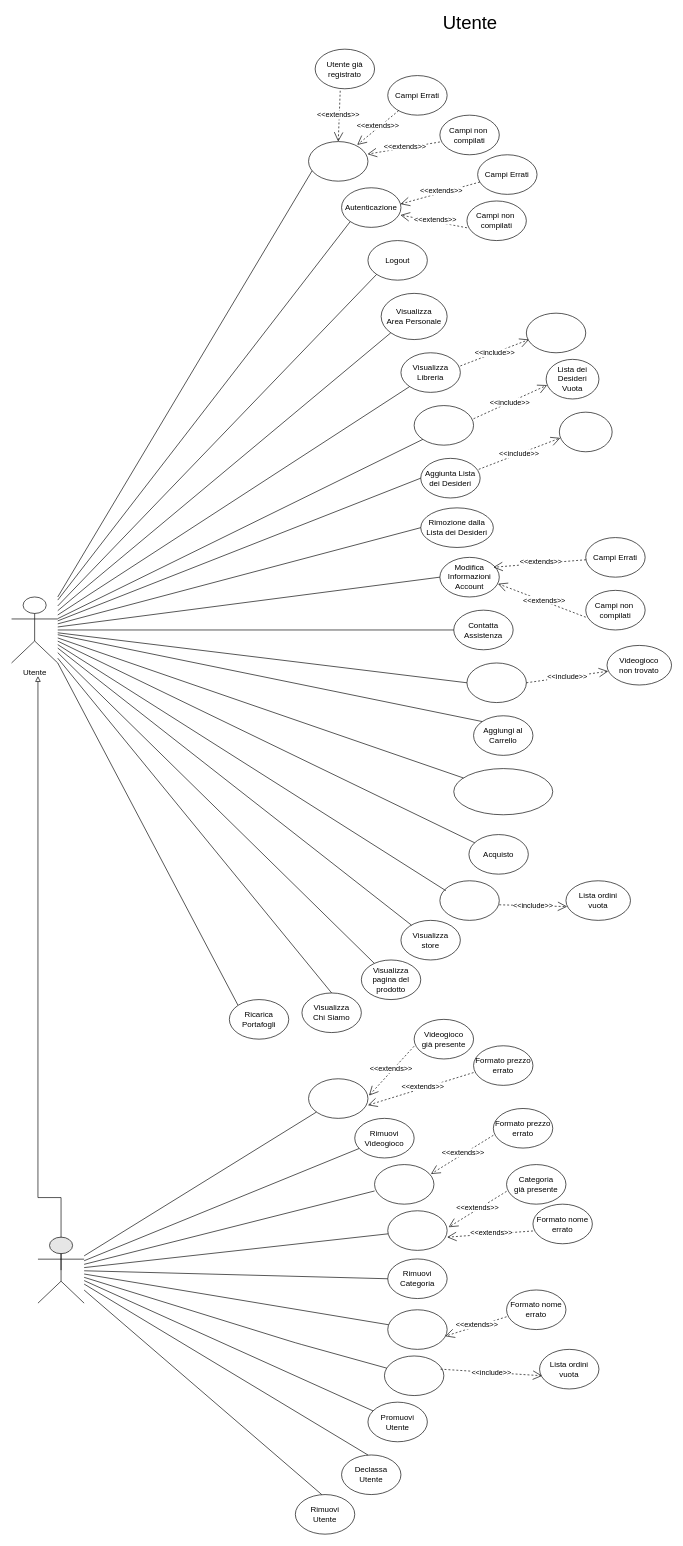
The diagram is 683 pixels wide and 1546 high, and some of its shapes have lost their labels. Each missing label, with the centre of its shape:
"Aggiungi Categoria" belongs at pixel 417 1230.
"Aggiungi Videogioco" belongs at pixel 338 1098.
"Aggiunta al Carrello dalla Lista dei Desideri" belongs at pixel 503 791.
"Amministratore" belongs at pixel 60 1270.
"Libreria Vuota" belongs at pixel 556 333.
"Modifica Categoria" belongs at pixel 417 1329.
"Modifica Informazioni Videogioco" belongs at pixel 404 1184.
"Prodotto già presente" belongs at pixel 585 432.
"Registrazione" belongs at pixel 338 161.
"Ricerca Videogioco" belongs at pixel 496 682.
"Visualizza Lista dei Desideri" belongs at pixel 443 425.
"Visualizza Ordini" belongs at pixel 469 900.
"Visualizza Ordini Utente" belongs at pixel 414 1375.
